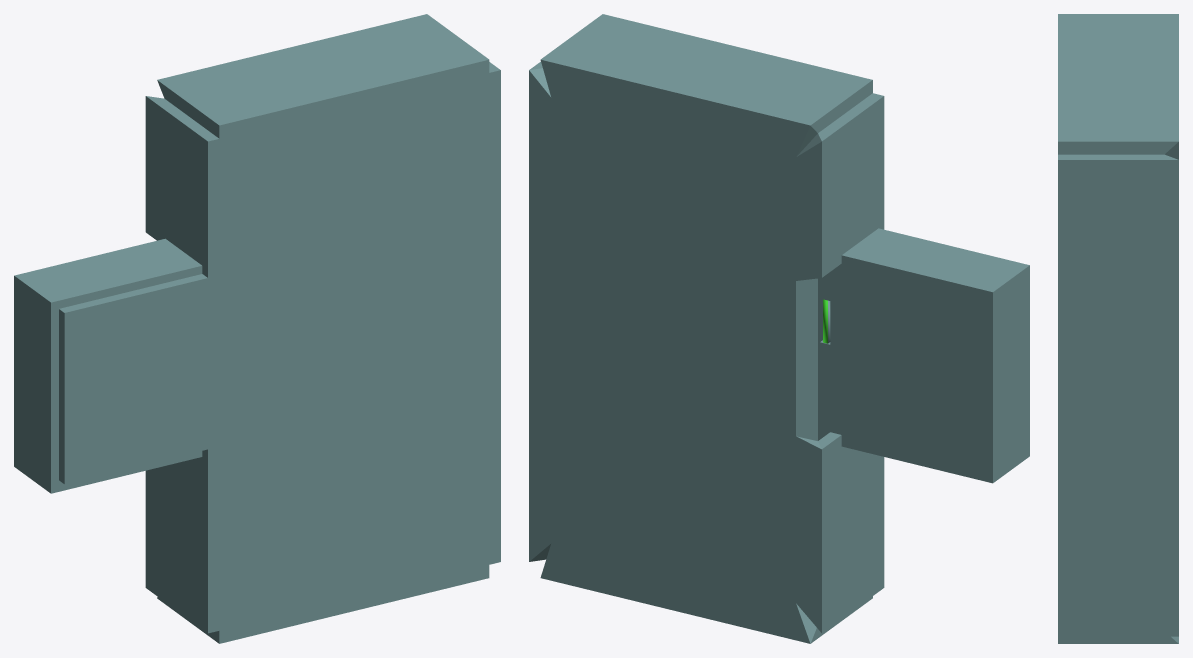
The model's file is shiny ship test.dae.
The picture shows the model from 3 angles, left to right: view 1: azimuth 30°, elevation 25°; view 2: azimuth 150°, elevation 25°; view 3: azimuth 270°, elevation 25°; orthographic projection. The views are drawn at different scales.
Parts seen in each view (by area): view 1: ship; view 2: ship; view 3: ship.
Boxes of the visible parts, box(x1,y1,x2,y2) form: ship: box(14, 14, 500, 643); ship: box(529, 14, 1029, 643); ship: box(1058, 14, 1178, 643).
Size of what is drawn, in the model's own units: 25.04 by 6.09 by 27.93.
